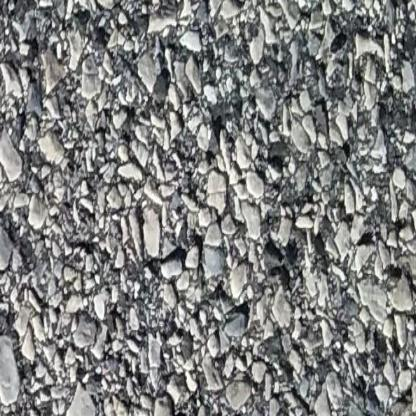Cracks: (334, 394, 416, 416)
